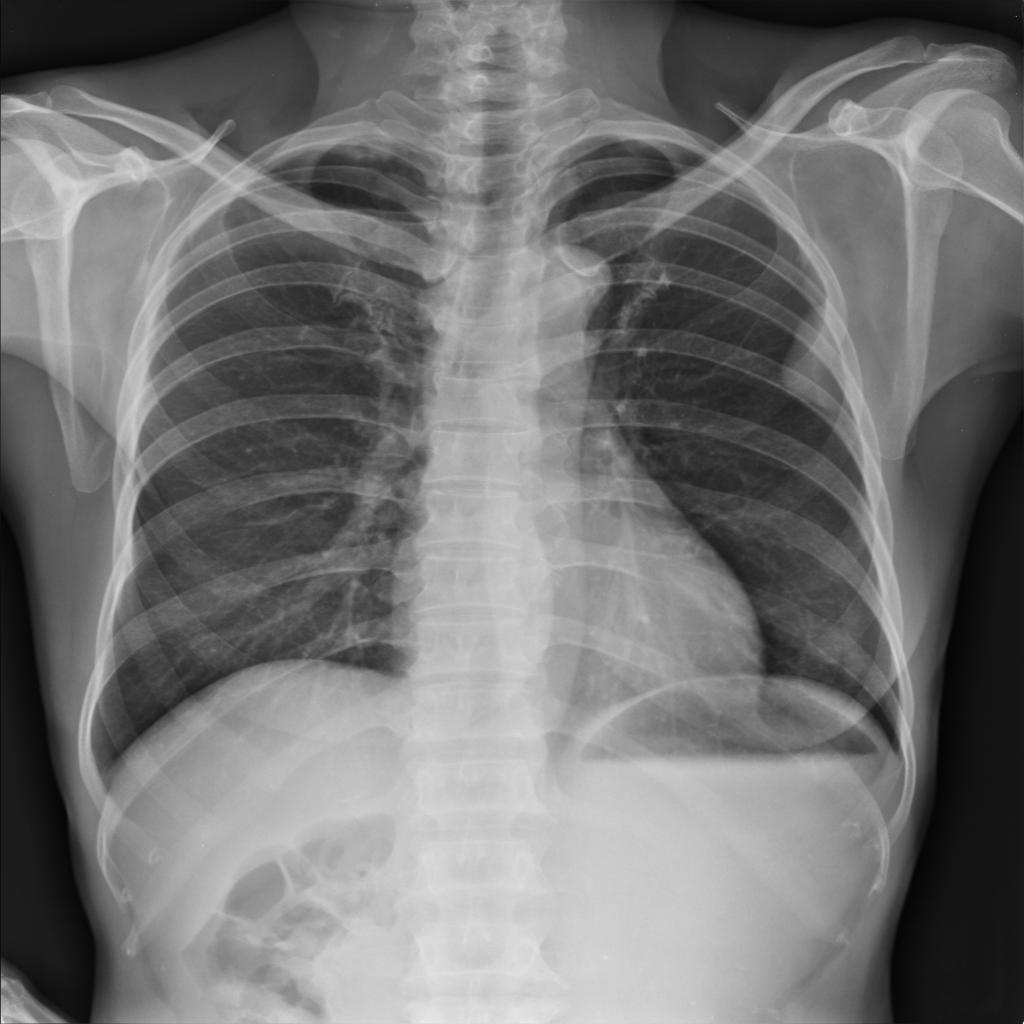Nodule: (781, 301, 849, 413)
